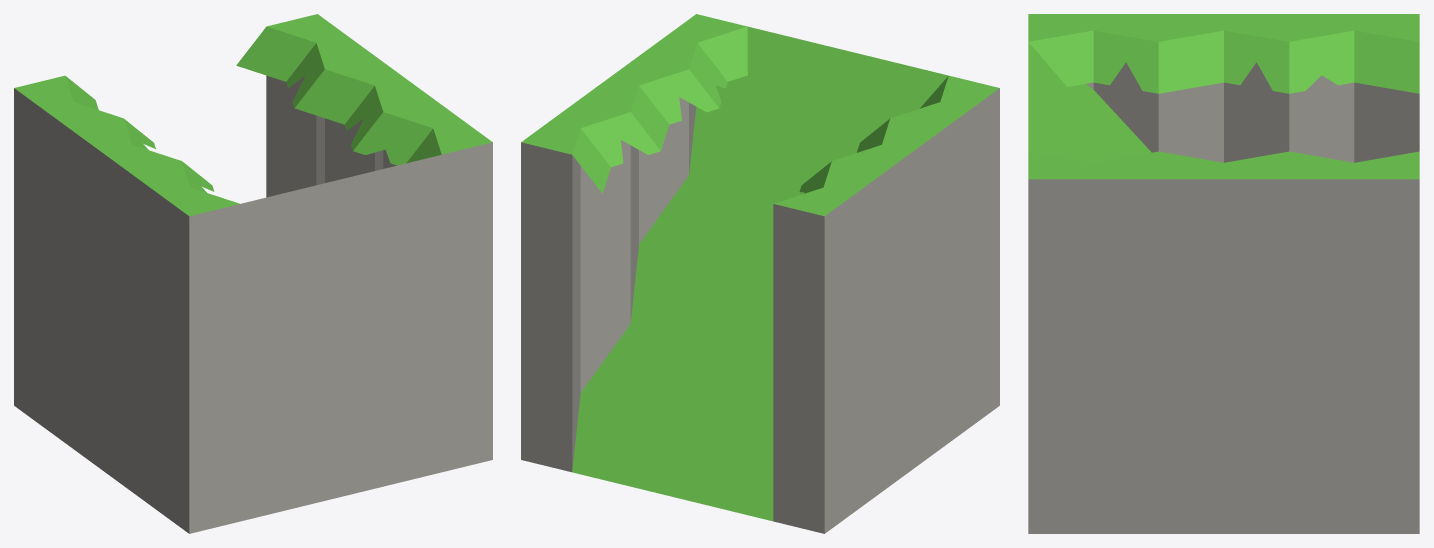
Rendered from cliff_blockSlopeWalls_stone.glb.
The picture shows the model from 3 angles, left to right: view 1: azimuth 30°, elevation 25°; view 2: azimuth 150°, elevation 25°; view 3: azimuth 270°, elevation 25°; orthographic projection. The views are drawn at different scales.
Parts seen in each view (by area): view 1: cliff_blockSlopeWalls_stone; view 2: cliff_blockSlopeWalls_stone; view 3: cliff_blockSlopeWalls_stone.
Boxes of the visible parts, bbox=[...] form: cliff_blockSlopeWalls_stone: bbox=[14, 14, 492, 533]; cliff_blockSlopeWalls_stone: bbox=[521, 14, 999, 533]; cliff_blockSlopeWalls_stone: bbox=[1028, 14, 1419, 533].
Bounding box in the file's own units: 1 × 1 × 1.
